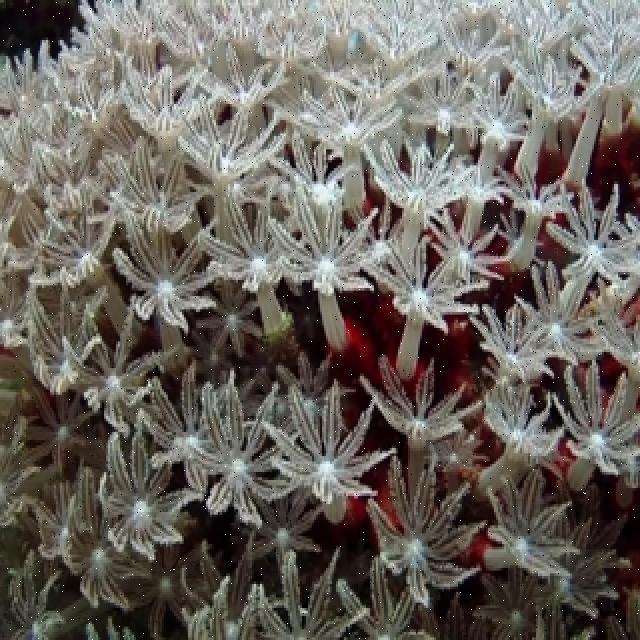reefs: (0, 0, 638, 637)
